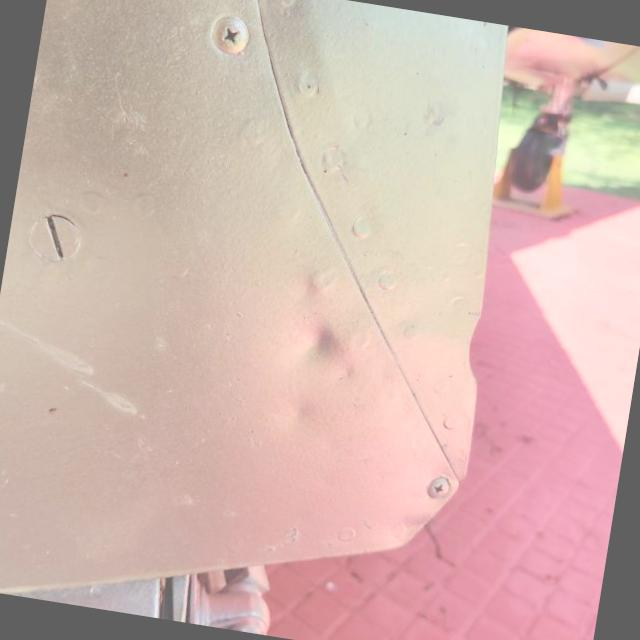dent: (251, 288, 376, 401)
